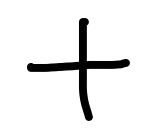plus: (27, 18, 130, 121)
